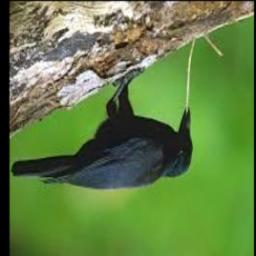Crow: (11, 70, 193, 190)
